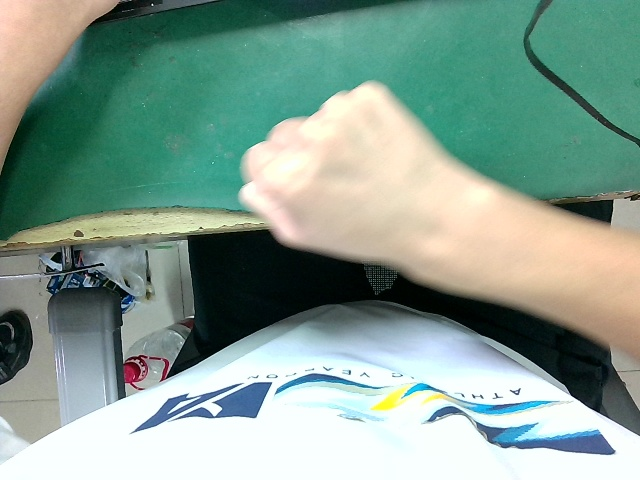stone: (214, 73, 472, 291)
